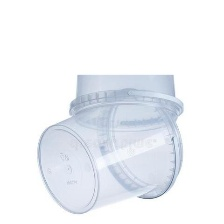plastic_box: (29, 85, 189, 219), (62, 75, 188, 137)
